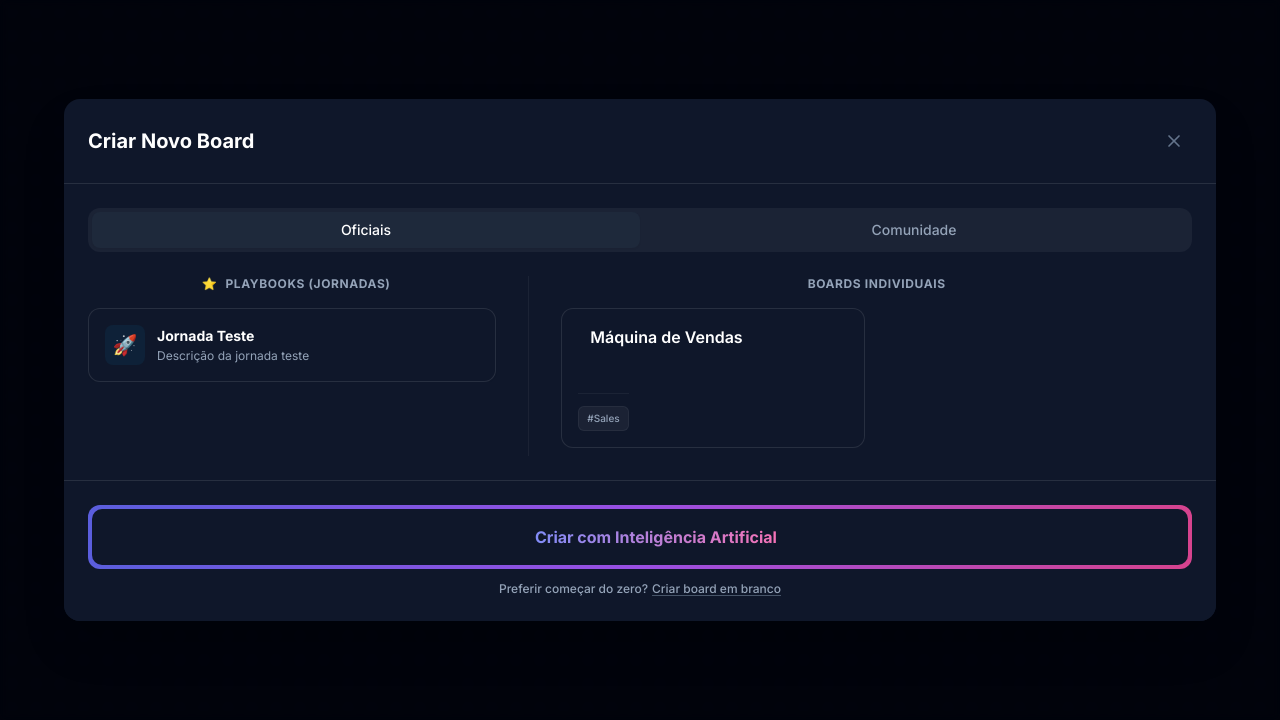
Test: BoardCreationWizard › should show preview when a playbook is selected
The width and height of the screenshot is (1280, 720).
// Find the playbook card
Click the heading "Jornada Teste": (206, 336) [157,327,254,344]
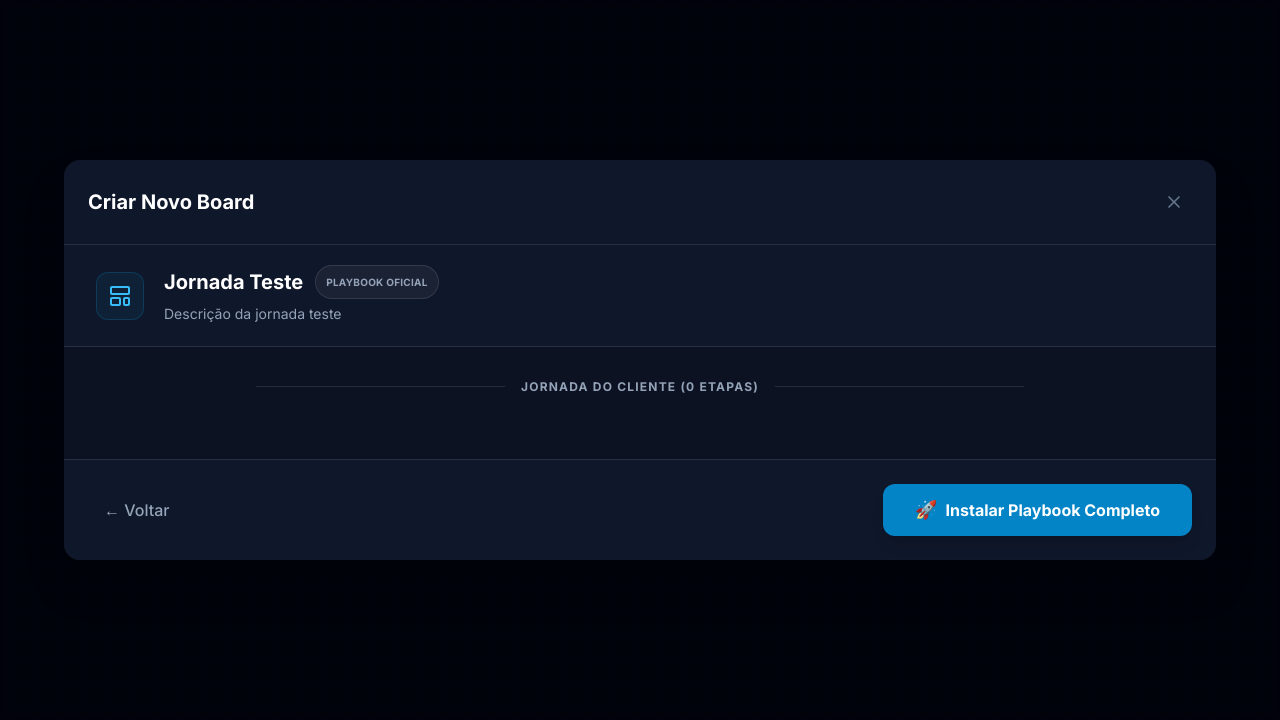
expect the text "Descrição da jornada teste" is shown: met, box [164,305,342,322]
expect the heading "Jornada Teste Playbook Oficial" is shown: met, box [164,265,439,299]
expect the text "Playbook Oficial" is shown: met, box [315,265,439,299]
